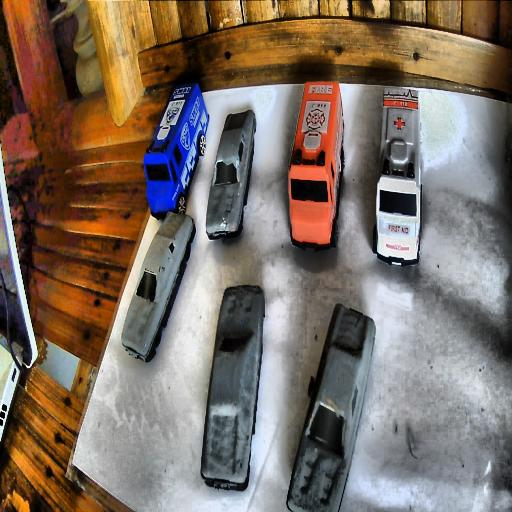ambulance: (373, 90, 421, 269)
fire_truck: (287, 82, 343, 252)
normal_car: (287, 303, 375, 510), (201, 286, 265, 491), (120, 210, 196, 364), (205, 107, 257, 242)
police car: (142, 80, 209, 220)
